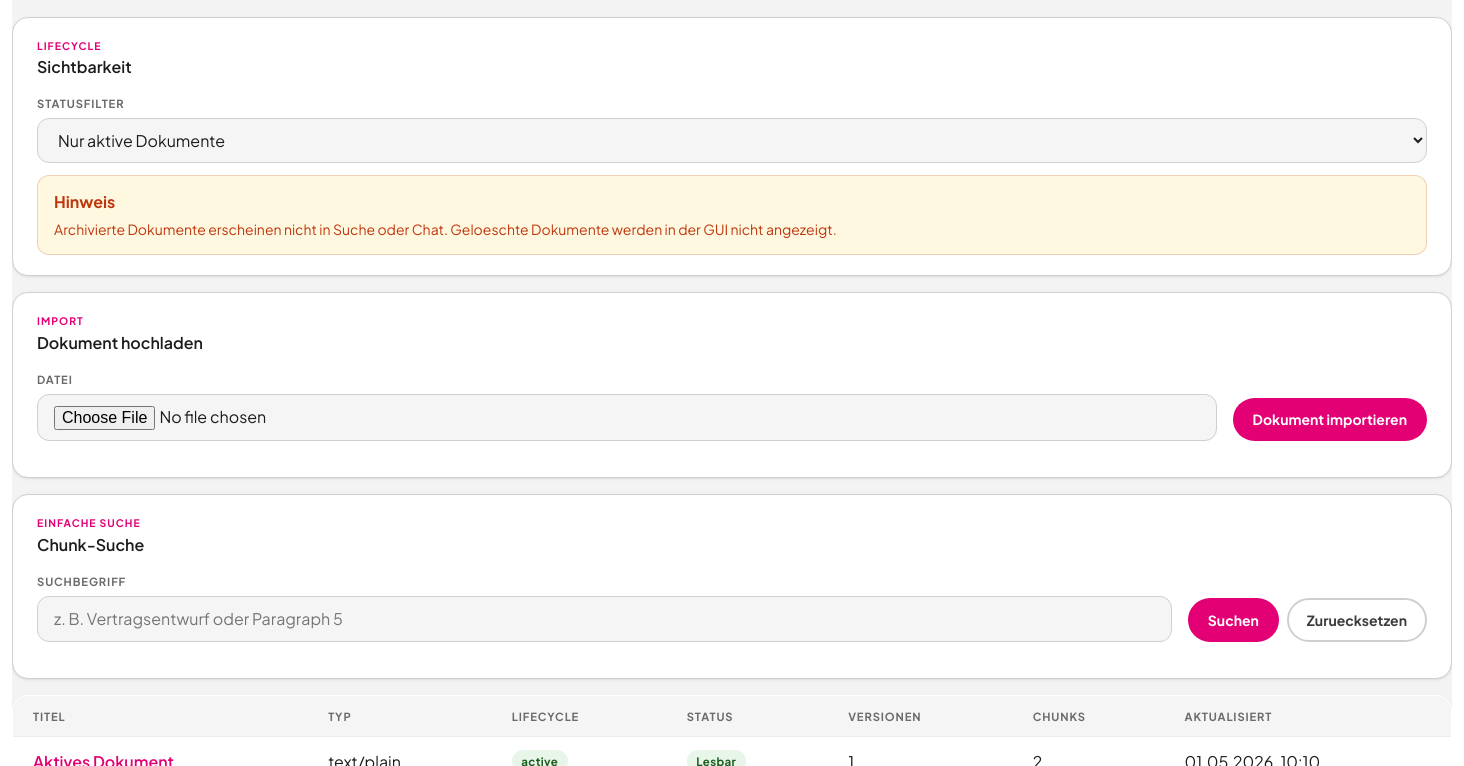
Test: DocumentsPage › filters archived documents explicitly and does not expose a deleted filter
Expected: the text "Archivierte Dokumente erscheinen nicht in Suche oder Chat" is shown, [54,220,837,238]
Select "Nur archivierte Dokumente" in the dropdown labelled "Statusfilter" at (732, 141), box [37,118,1427,163]
(page scrolled)
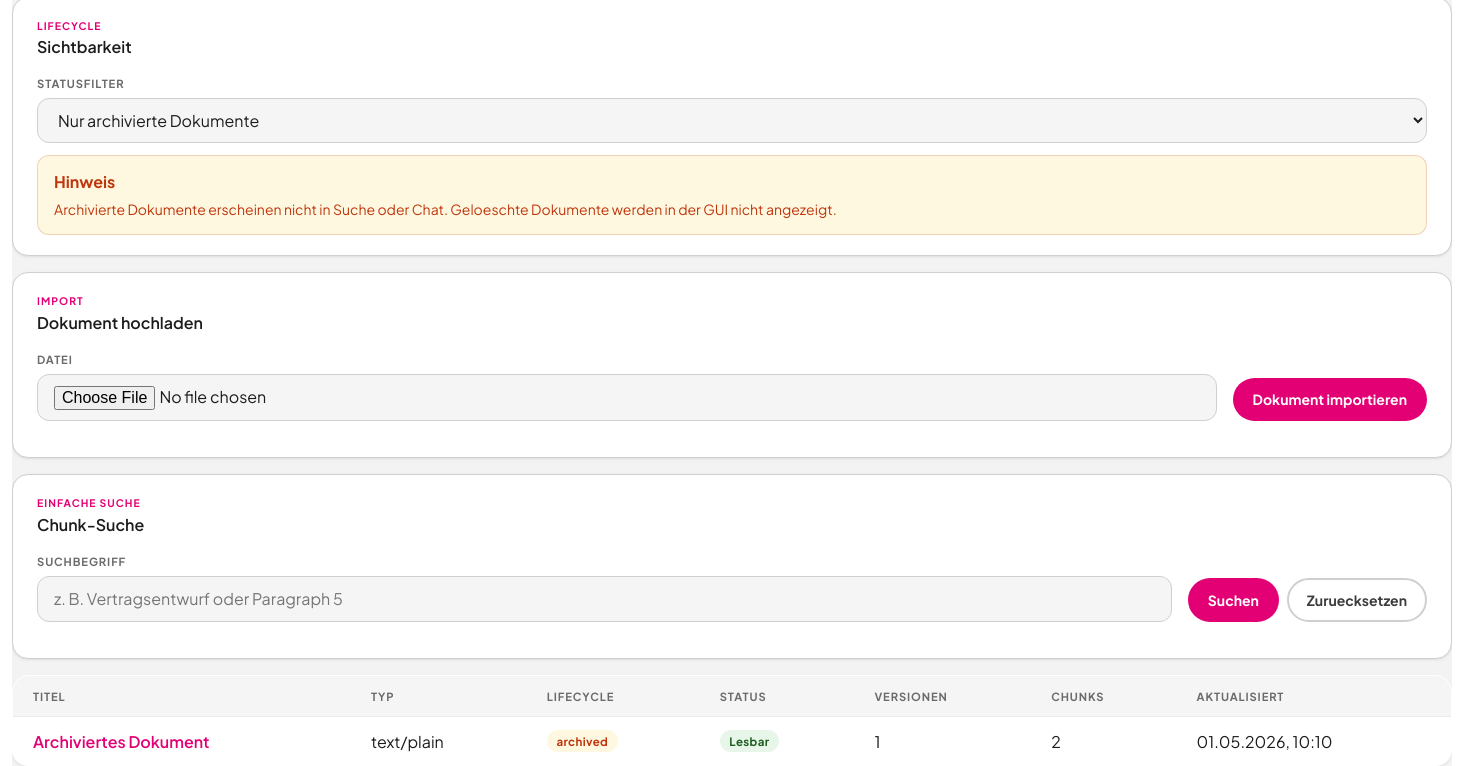
Expected: the link "Archiviertes Dokument" is shown, [33,730,210,752]
Expected: the text "archived" is shown, [547,730,618,752]
